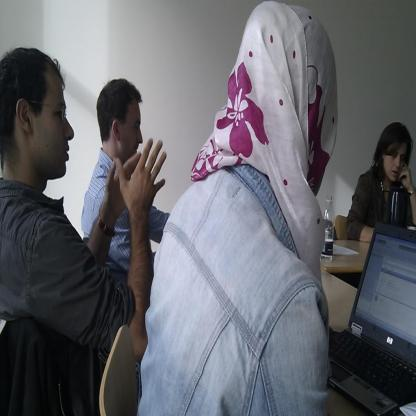board: (329, 215, 416, 407), (320, 196, 336, 265)
